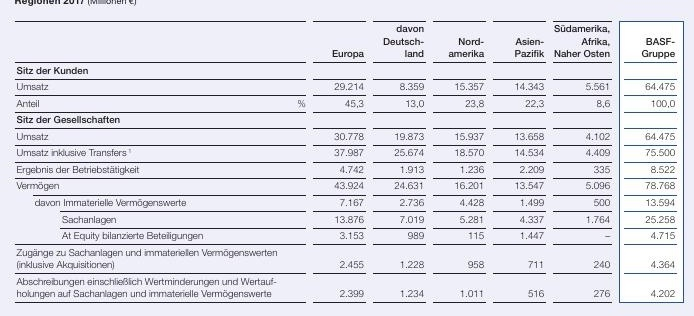table: (0, 0, 694, 316)
